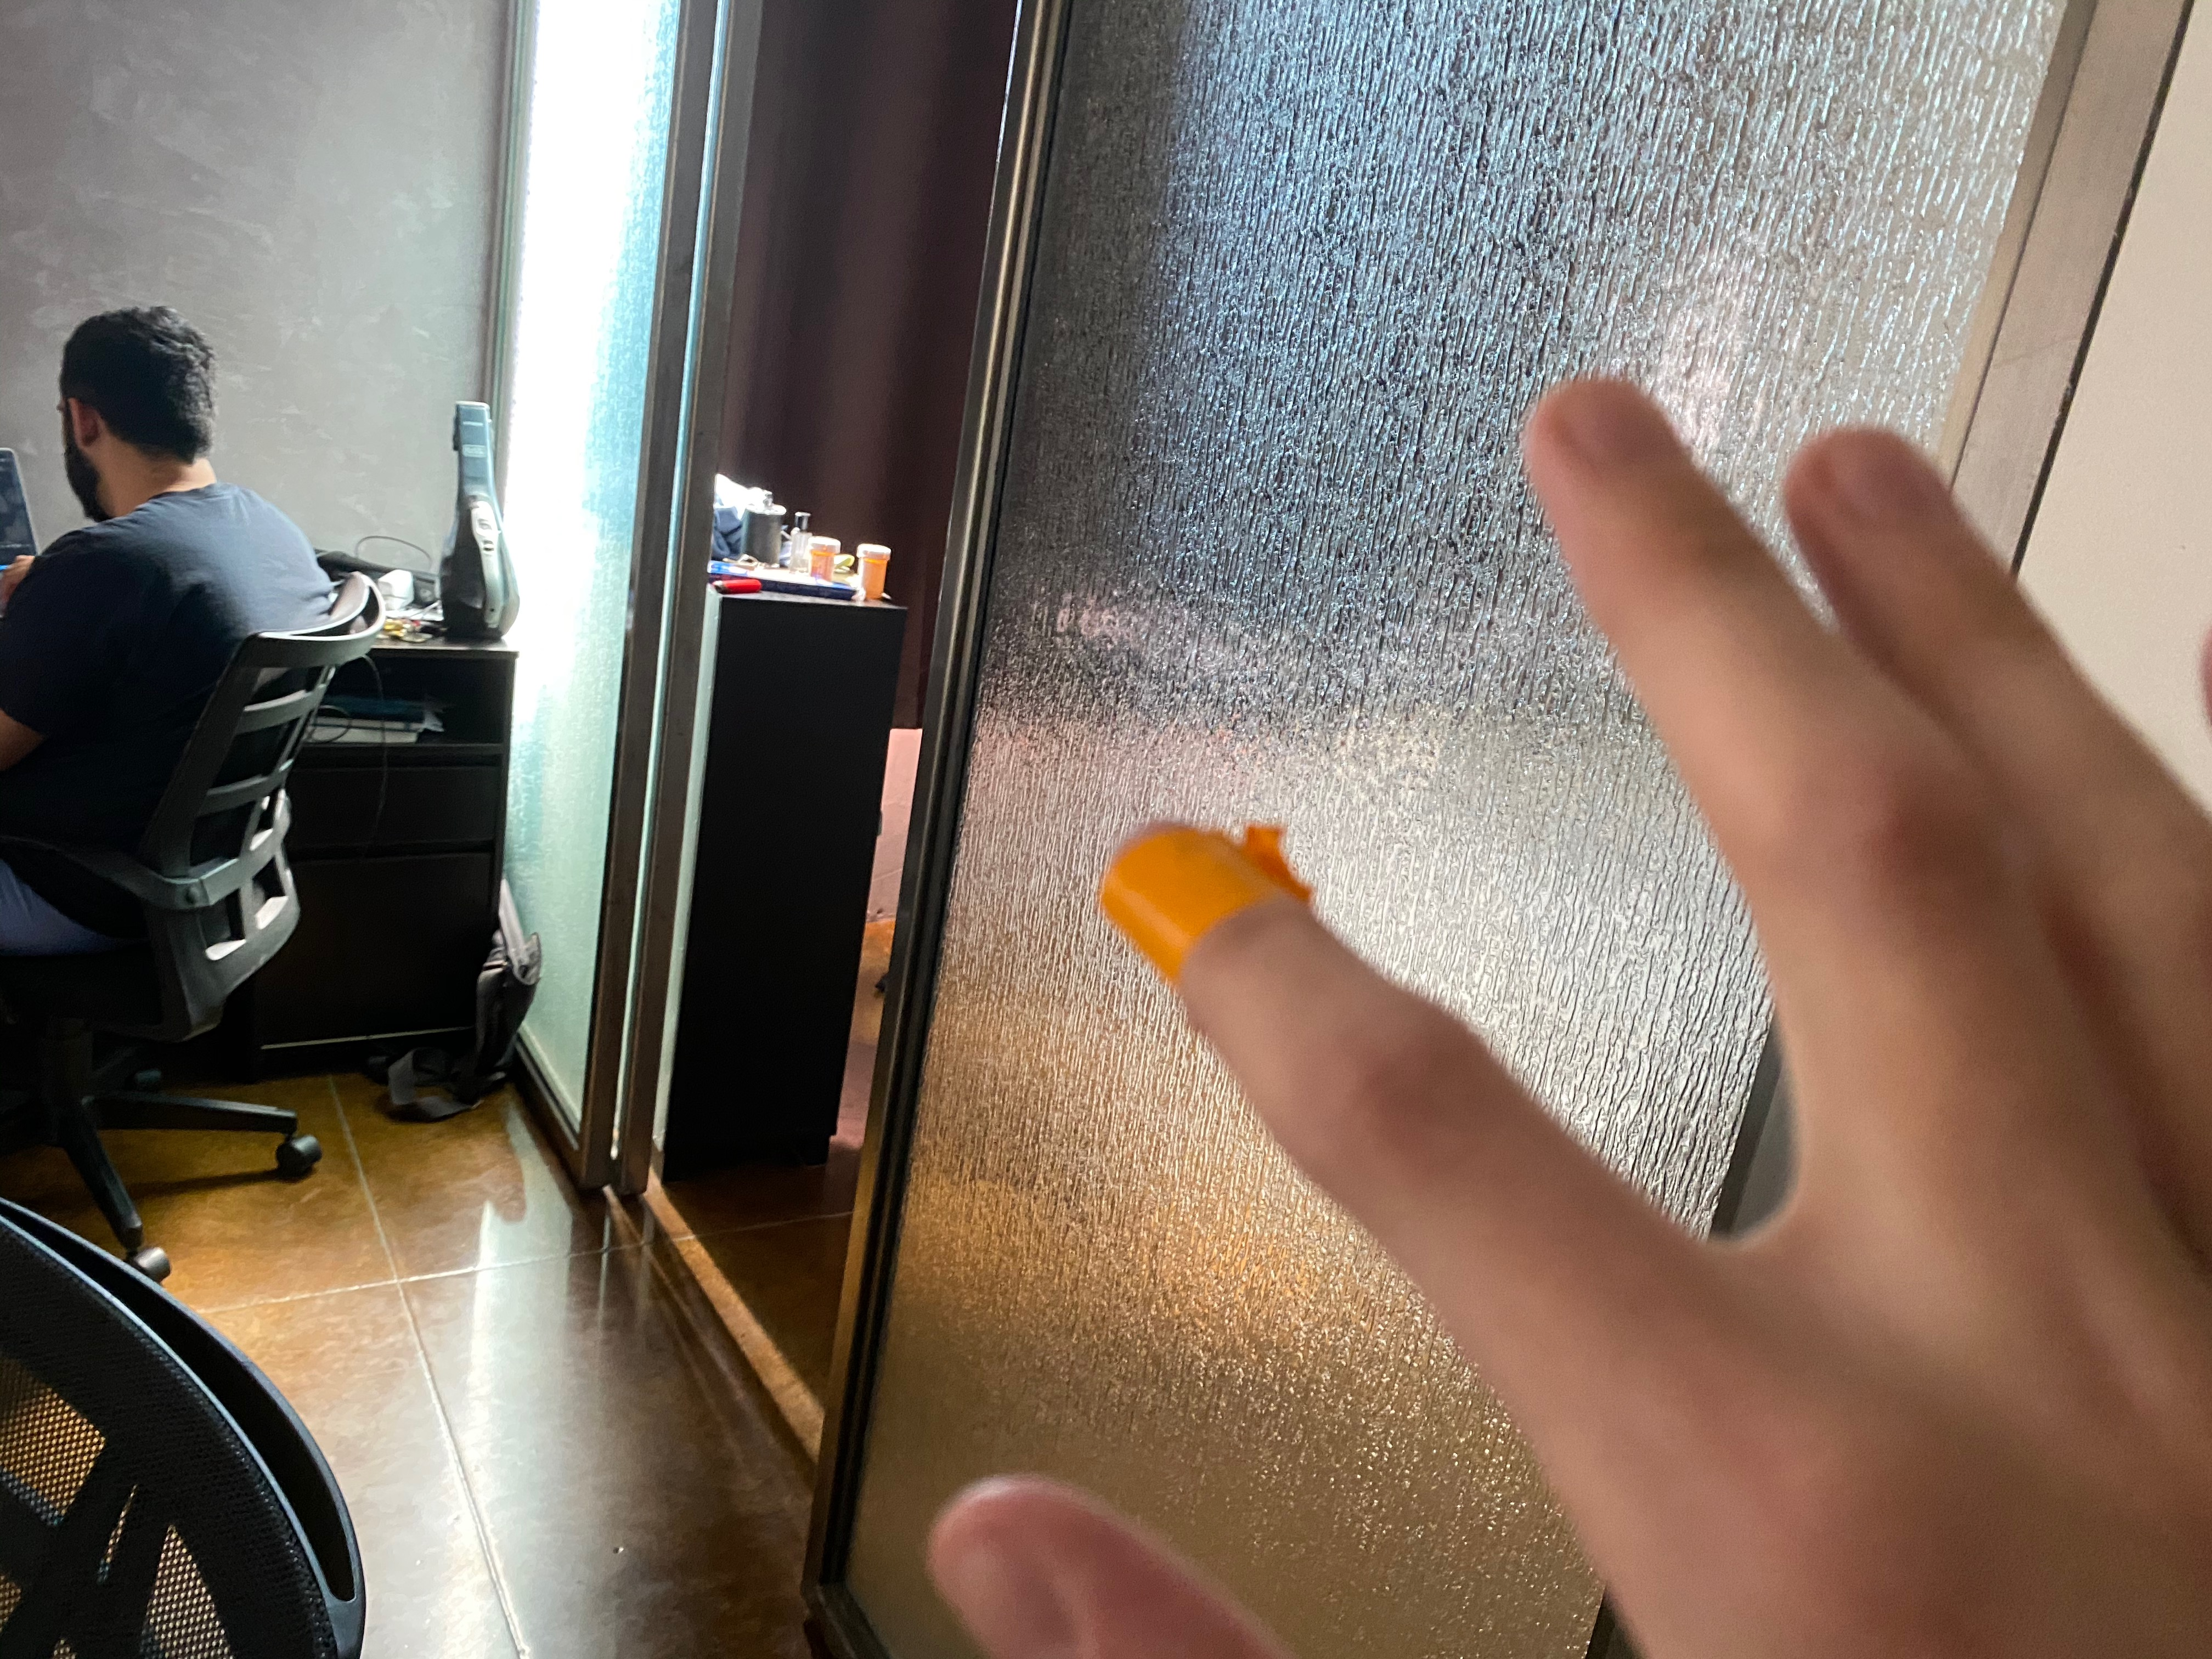fingertip: (1066, 807, 1334, 999)
